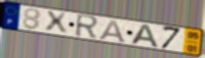7: (159, 25, 183, 51)
8: (22, 8, 44, 32)
A: (129, 23, 161, 50), (98, 19, 128, 45)
R: (74, 13, 101, 41)
X: (44, 10, 69, 35)
